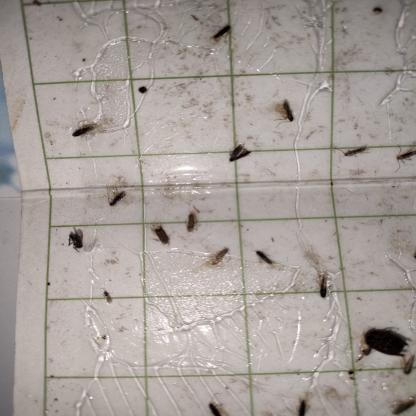prays_oleae: (103, 176, 135, 226), (249, 239, 280, 285), (316, 258, 338, 308), (276, 88, 298, 134), (344, 134, 369, 173), (208, 236, 232, 276), (205, 18, 234, 51), (66, 119, 104, 144), (392, 134, 414, 176), (151, 220, 172, 259), (227, 139, 253, 168), (384, 388, 414, 413), (66, 226, 88, 255), (184, 205, 200, 244), (404, 351, 416, 386), (291, 391, 308, 415), (207, 397, 226, 413)
